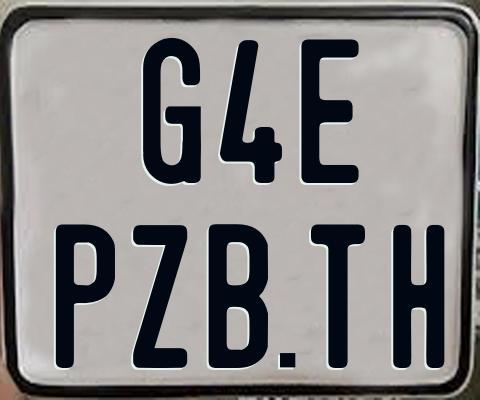4: (220, 38, 284, 181)
B: (206, 222, 266, 369)
E: (298, 36, 362, 185)
G: (143, 36, 207, 184)
H: (392, 222, 446, 368)
P: (56, 224, 115, 374)
T: (310, 223, 370, 373)
Z: (130, 224, 189, 373)
